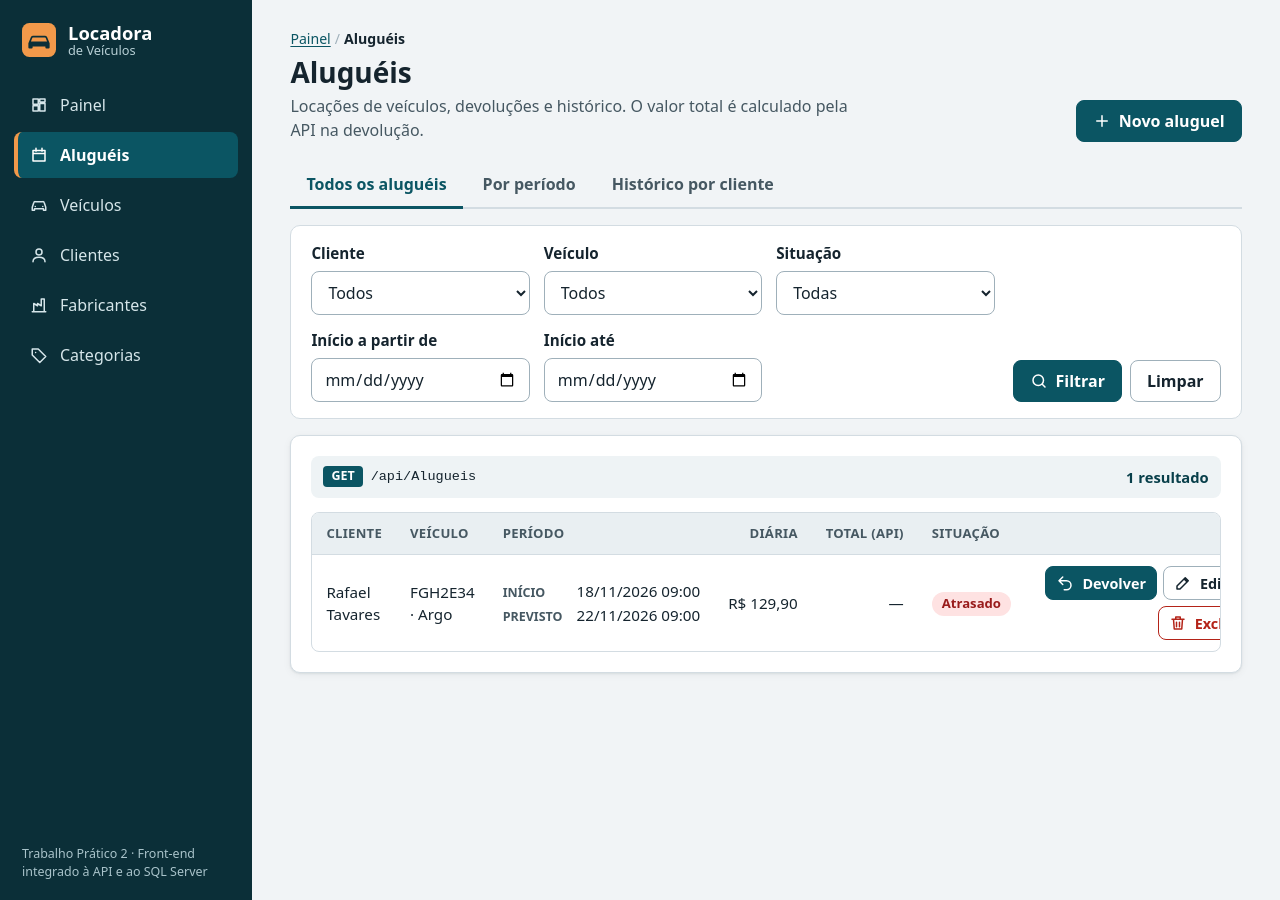
Test case: Aluguéis — devolução › impede quilometragem final menor que a inicial
Click the button with aria-label "Registrar devolução do aluguel 16": [1101, 584] box [1045,566,1157,600]
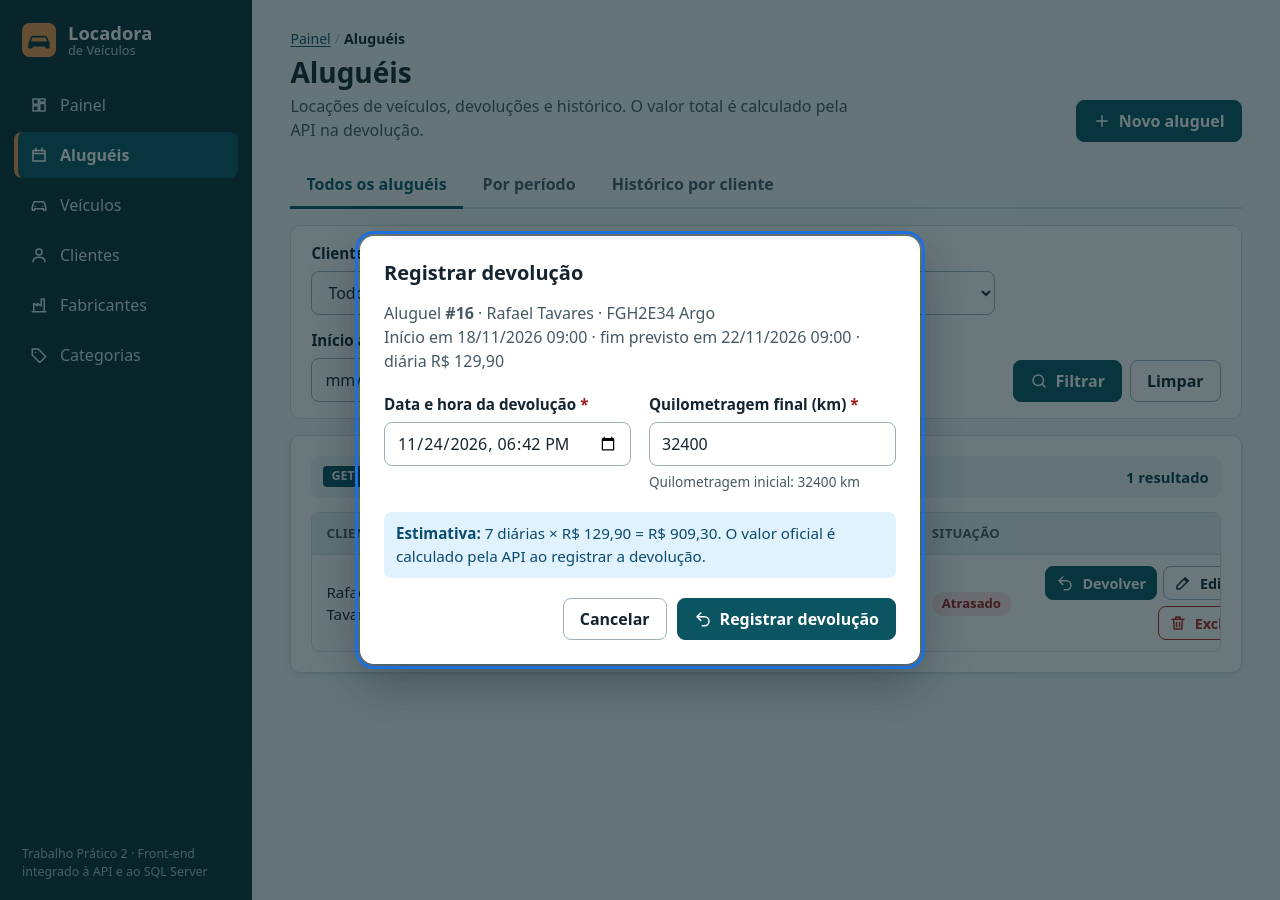
Replace the text in the number field labelled "Quilometragem final (km) *" with "100": [772, 444] box [649,422,896,466]
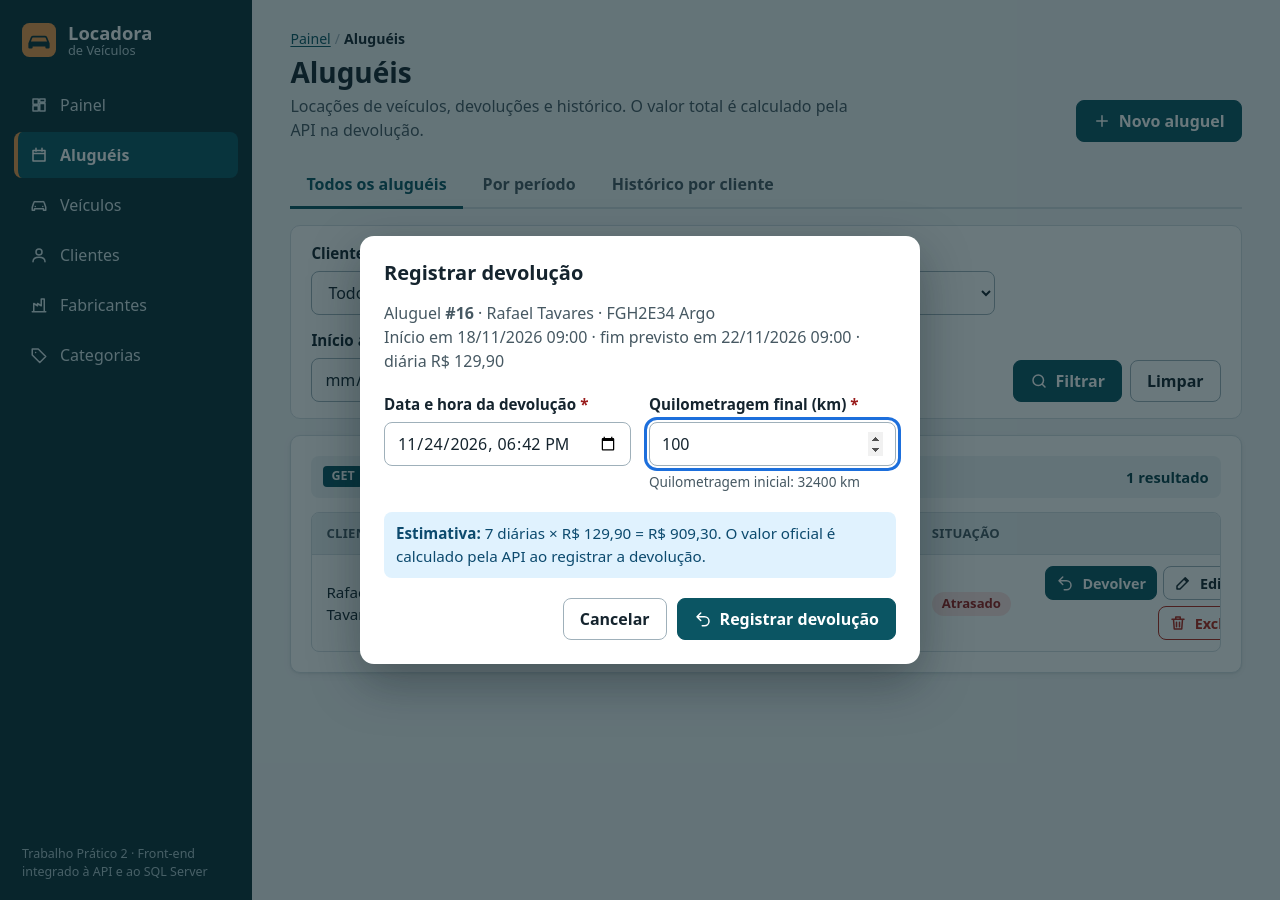
Click the button "Registrar devolução": [786, 619] box [677,598,896,640]
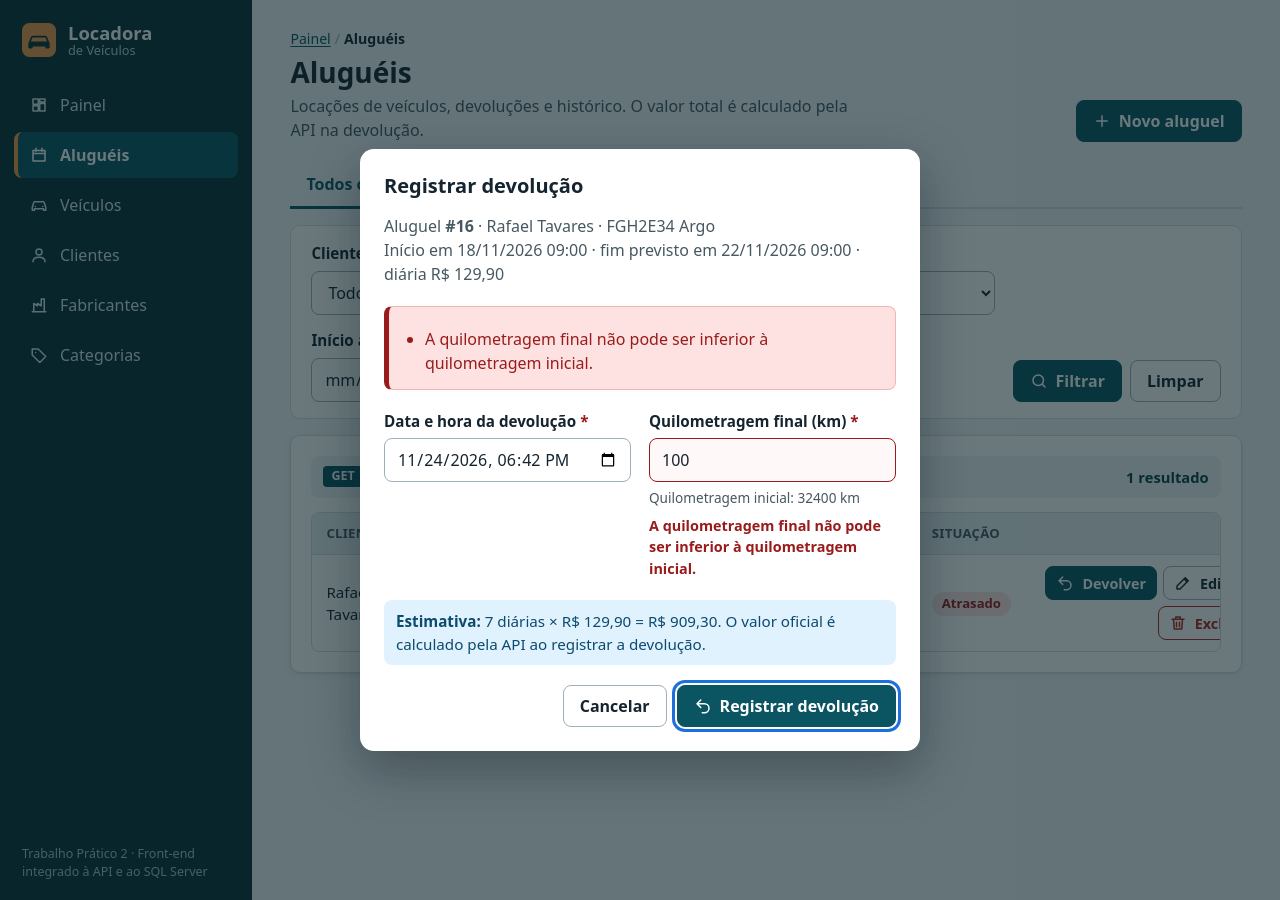
Result: the list item "A quilometragem final não pode ser inferior à quilometragem inicial." is shown at [425,328,768,374]
